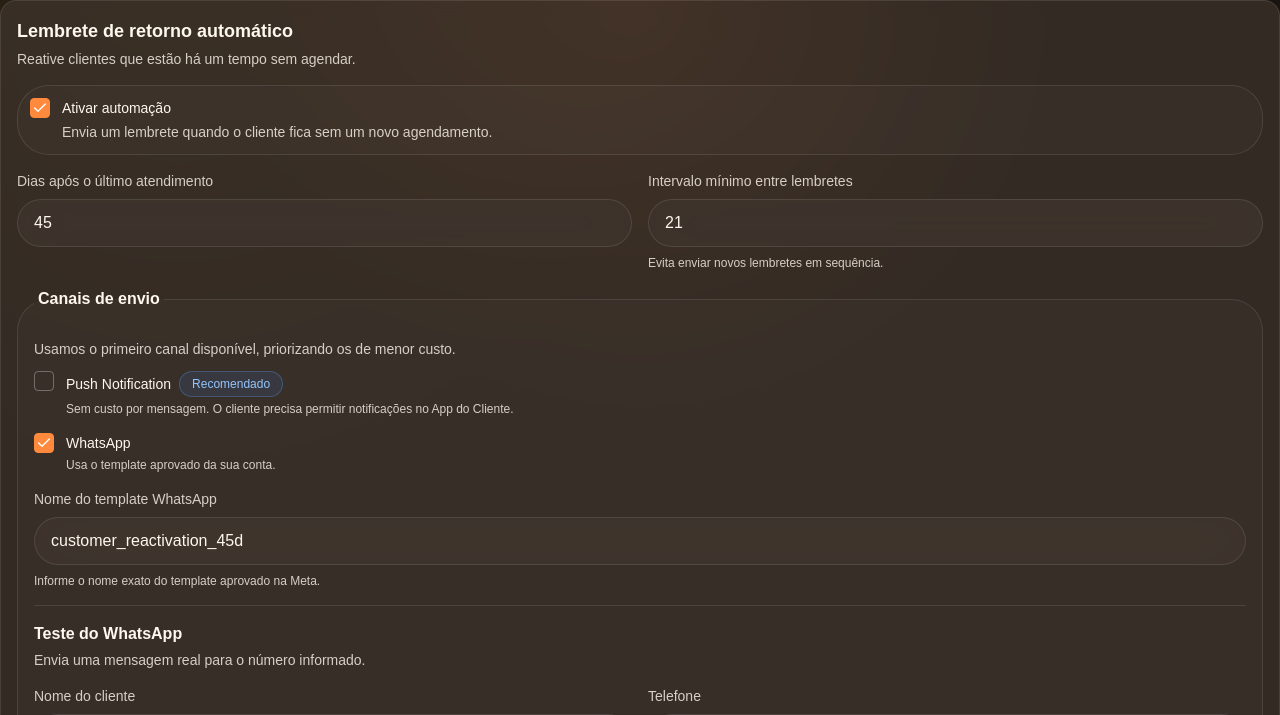
Test case: CustomerReactivationConfig › blocks an active automation without channels
Click the 3rd checkbox named "Ativar canal WhatsApp" at (44, 443), box left=34, top=433, right=54, bottom=453
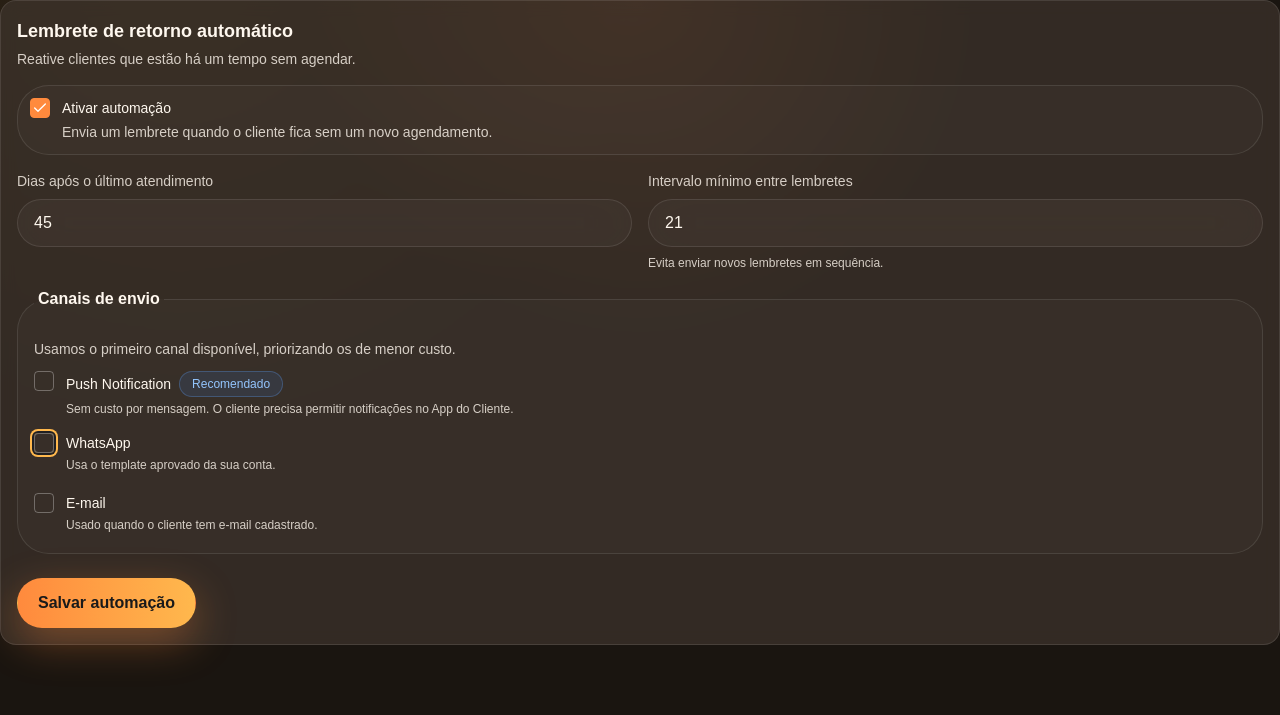
Click the button "Salvar automação" at (106, 603), box left=17, top=578, right=196, bottom=628
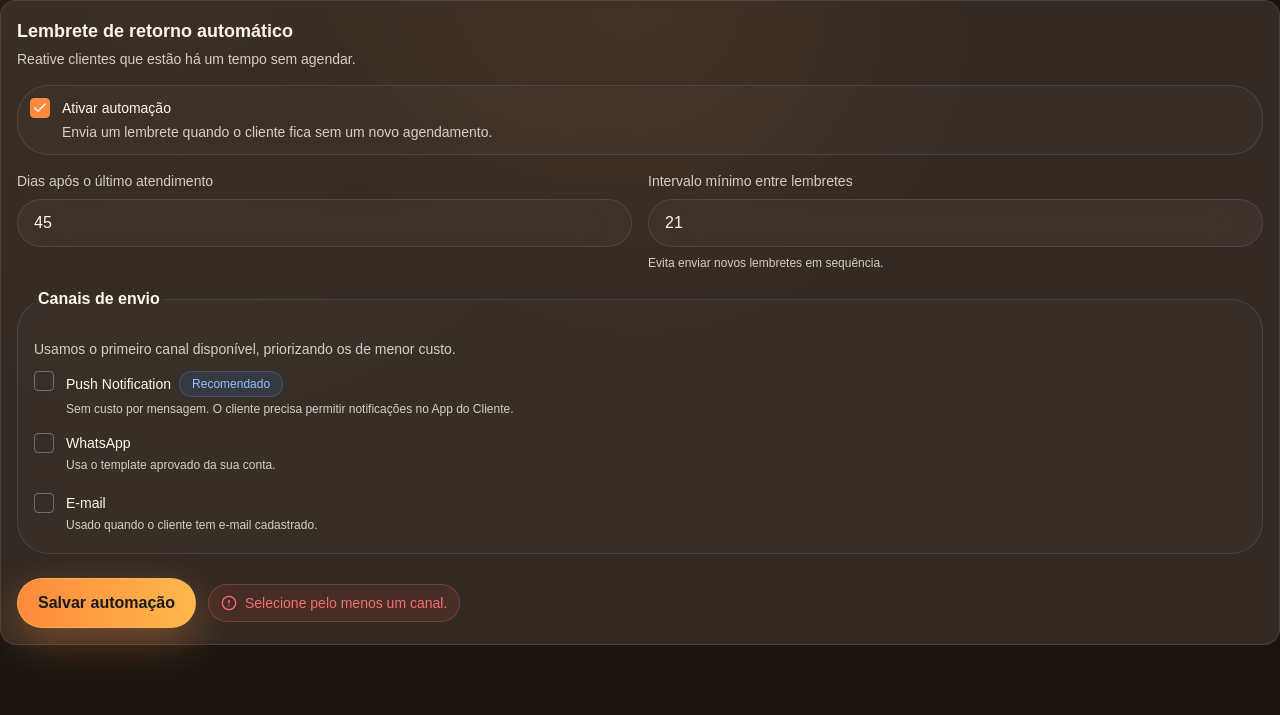
Check: the message reads "Selecione pelo menos um canal.", box left=245, top=595, right=447, bottom=611
